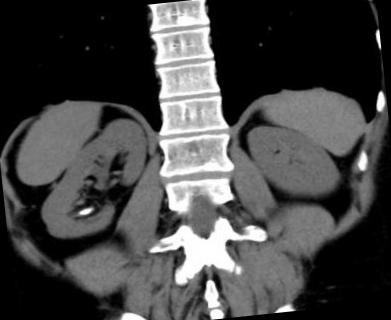Tas_Var: (78, 206, 92, 218)
